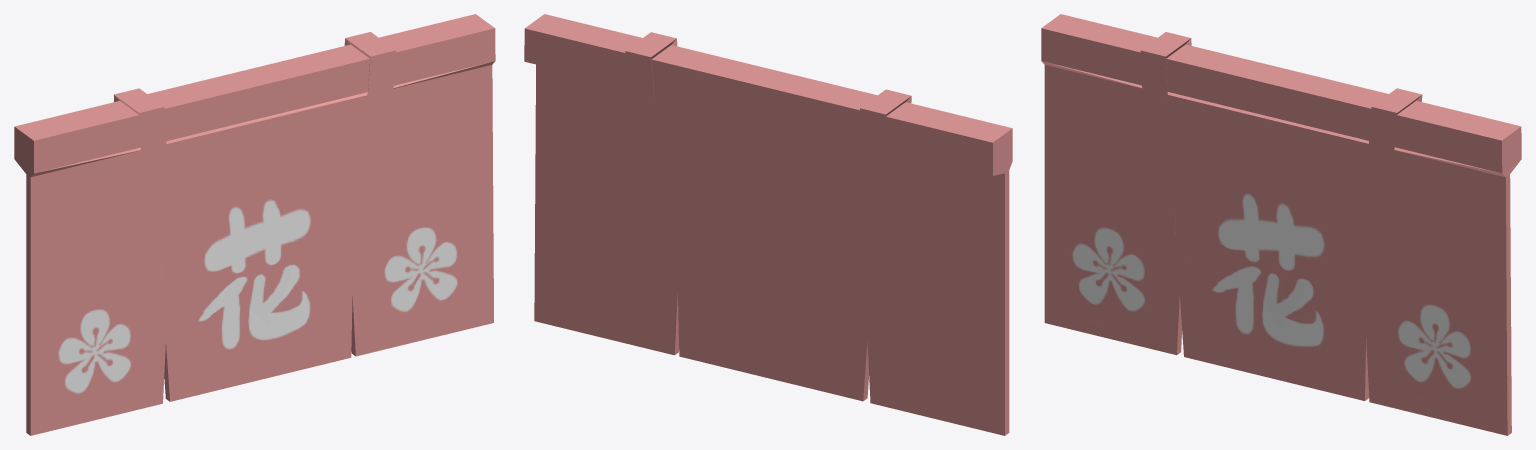
The model's file is Noren_Pink_Flower.fbx.
The picture shows the model from 3 angles, left to right: view 1: azimuth 30°, elevation 25°; view 2: azimuth 150°, elevation 25°; view 3: azimuth 330°, elevation 25°; orthographic projection.
Visible parts, largest first — view 1: Noren_Pink_Flower; view 2: Noren_Pink_Flower; view 3: Noren_Pink_Flower.
Part boxes in pixels (left/top/right/bottom): Noren_Pink_Flower: left=14, top=14, right=495, bottom=435; Noren_Pink_Flower: left=524, top=14, right=1012, bottom=435; Noren_Pink_Flower: left=1041, top=14, right=1521, bottom=435.
Size of the model in its own units: 1 by 0.6267 by 0.0953.
1 material, 1 textured.
